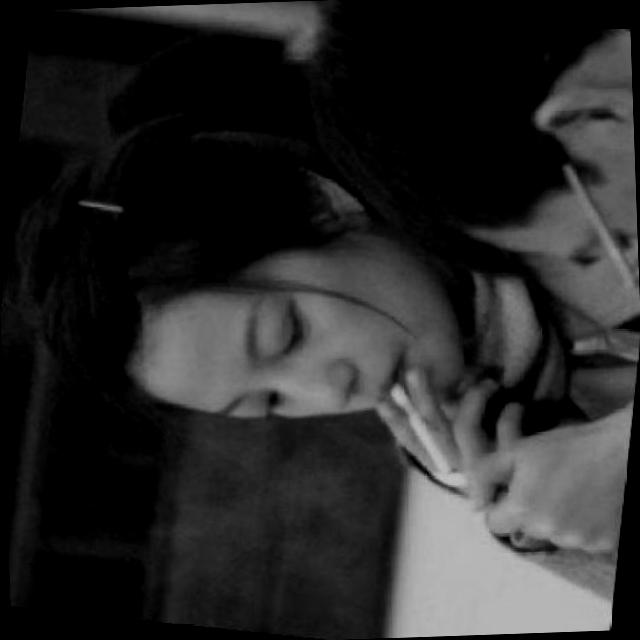smoke: (378, 381, 469, 480)
